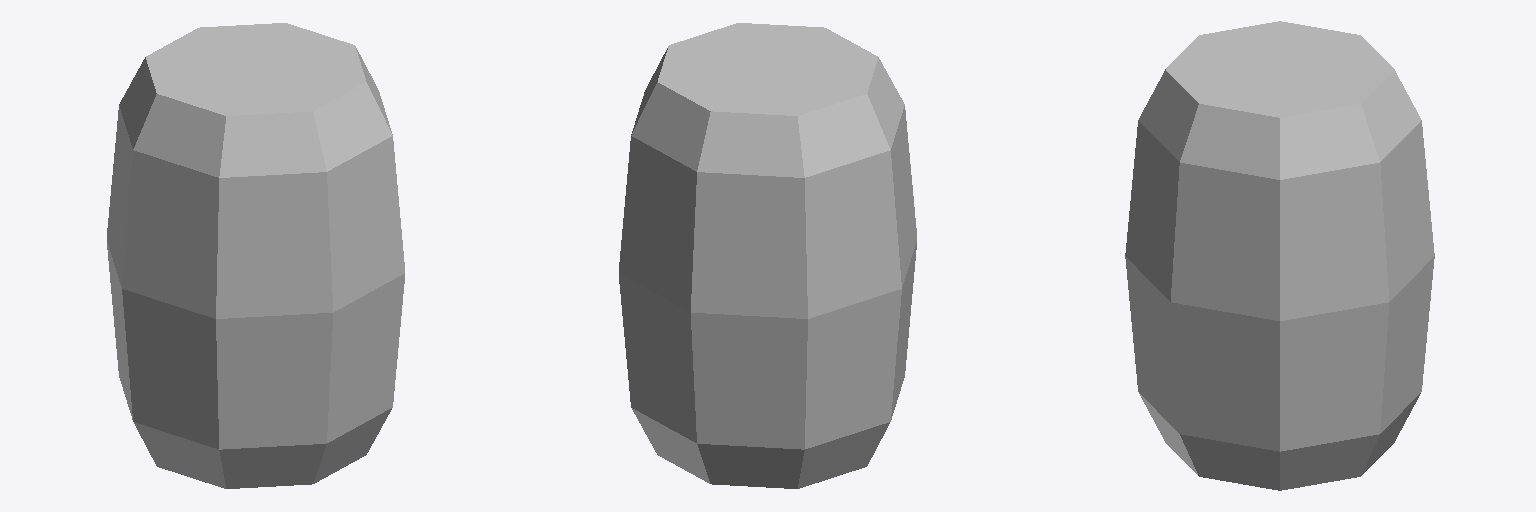
Rendered from barrel_001.obj.
3 renders of one model, left to right at view 1: azimuth 30°, elevation 25°; view 2: azimuth 150°, elevation 25°; view 3: azimuth 270°, elevation 25°, orthographic.
Visible parts, largest first — view 1: barrel_001_Cylinder.002; view 2: barrel_001_Cylinder.002; view 3: barrel_001_Cylinder.002.
Boxes of the visible parts, x1=… form: barrel_001_Cylinder.002: x1=107, y1=23, x2=404, y2=488; barrel_001_Cylinder.002: x1=619, y1=23, x2=916, y2=488; barrel_001_Cylinder.002: x1=1125, y1=21, x2=1434, y2=490.
Size of the model in its own units: 0.6573 by 0.8742 by 0.6573.